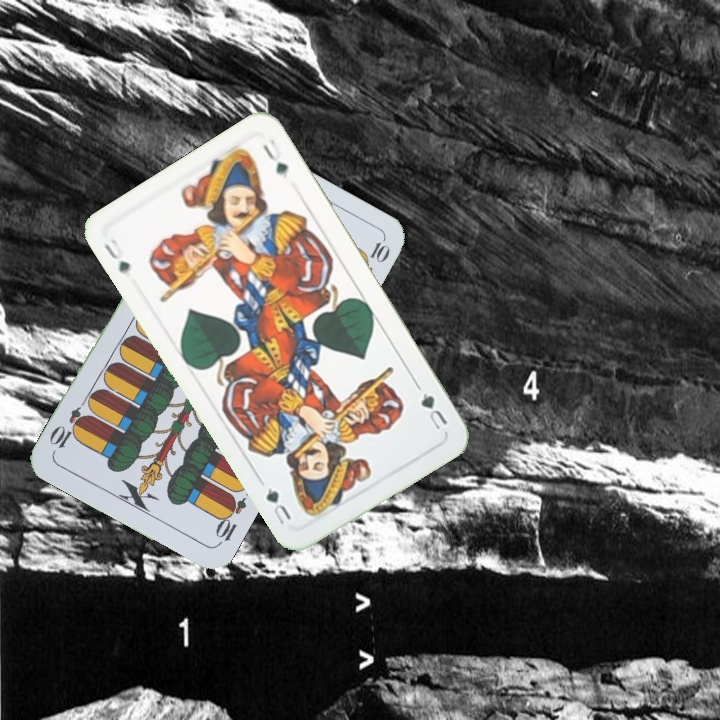E10: (211, 490, 250, 548)
GU: (417, 388, 451, 434), (99, 234, 133, 277)
